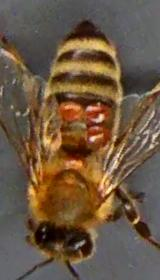varroa_mite: (73, 110, 120, 144), (78, 94, 118, 124), (52, 93, 82, 122)
